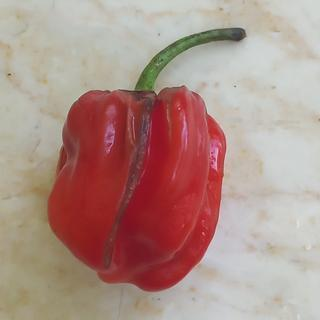striped: (99, 92, 158, 273), (163, 88, 180, 140)
